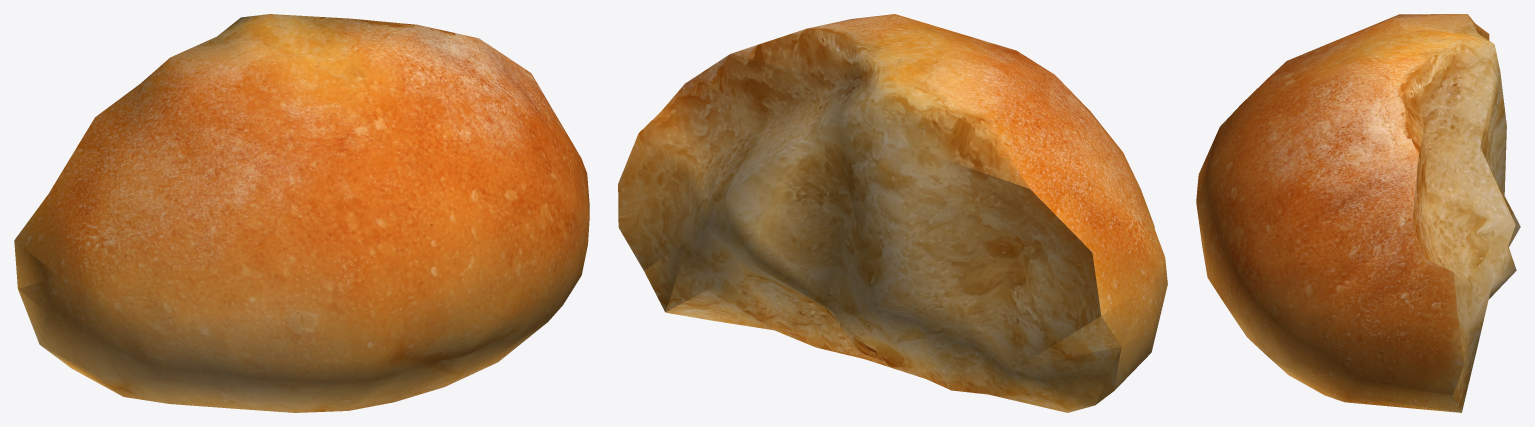
File: SmallBread_Piece.fbx
3 renders of one model, left to right at view 1: azimuth 30°, elevation 25°; view 2: azimuth 150°, elevation 25°; view 3: azimuth 270°, elevation 25°, orthographic. The views are drawn at different scales.
Visible parts, largest first — view 1: Mesh; view 2: Mesh; view 3: Mesh.
Part boxes in pixels (<box>): Mesh: <box>14,14,589,412</box>; Mesh: <box>618,14,1167,412</box>; Mesh: <box>1196,14,1520,412</box>.
Size of the model in its own units: 7.11 by 4.1 by 4.25.
